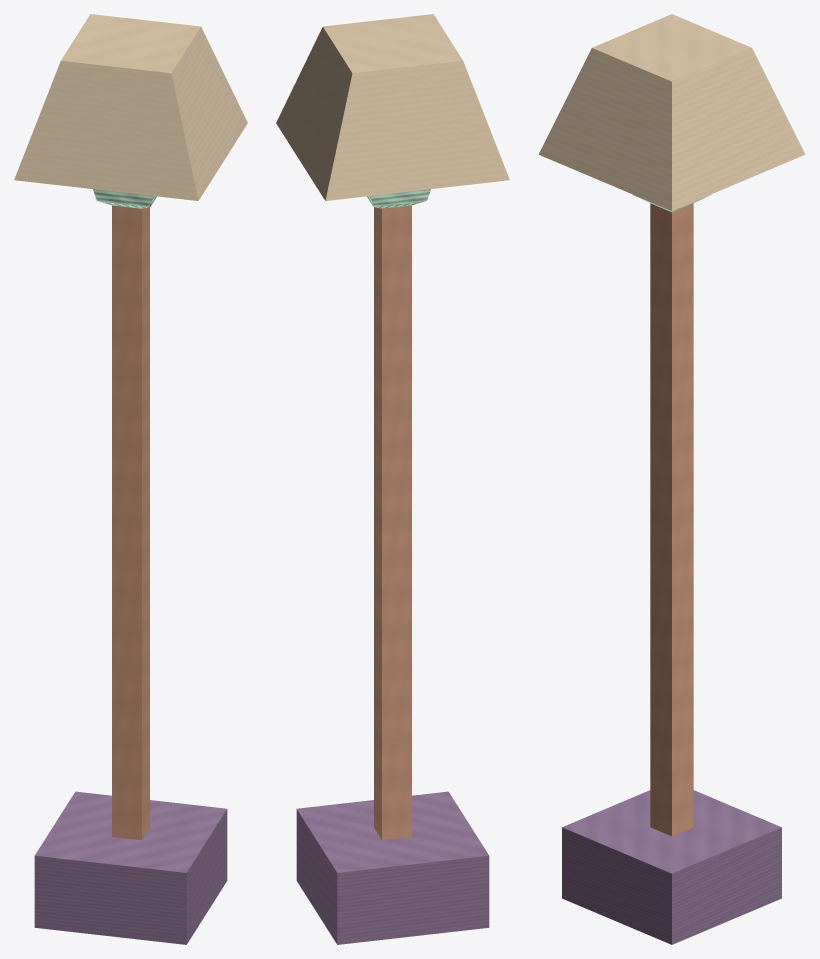
The model's file is atlas100-papercraft-util01.glb.
3 views of the same model, side by side, from view 1: azimuth 30°, elevation 25°; view 2: azimuth 150°, elevation 25°; view 3: azimuth 270°, elevation 25° (orthographic).
Visible parts, largest first — view 1: atlas100-papercraft-util01:part-002, atlas100-papercraft-util01:part-001, atlas100-papercraft-util01:part-000, atlas100-papercraft-util01:part-003; view 2: atlas100-papercraft-util01:part-002, atlas100-papercraft-util01:part-001, atlas100-papercraft-util01:part-000, atlas100-papercraft-util01:part-003; view 3: atlas100-papercraft-util01:part-002, atlas100-papercraft-util01:part-001, atlas100-papercraft-util01:part-000.
Part boxes in pixels (<box>): atlas100-papercraft-util01:part-002: <box>14,14,247,200</box>; atlas100-papercraft-util01:part-001: <box>112,205,149,840</box>; atlas100-papercraft-util01:part-000: <box>34,791,227,944</box>; atlas100-papercraft-util01:part-003: <box>93,189,156,208</box>; atlas100-papercraft-util01:part-002: <box>276,14,509,200</box>; atlas100-papercraft-util01:part-001: <box>374,205,411,840</box>; atlas100-papercraft-util01:part-000: <box>296,791,489,944</box>; atlas100-papercraft-util01:part-003: <box>367,189,430,208</box>; atlas100-papercraft-util01:part-002: <box>538,14,805,210</box>; atlas100-papercraft-util01:part-001: <box>650,203,693,836</box>; atlas100-papercraft-util01:part-000: <box>562,790,781,944</box>.
Size of the model in its own units: 0.7426 by 2.61 by 0.7426.
Materials: 4 (4 with a texture image).
